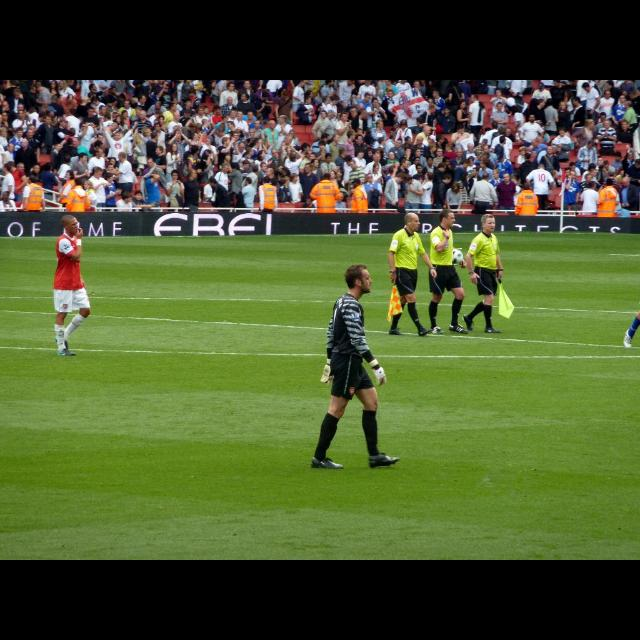Football: (453, 249, 463, 265)
